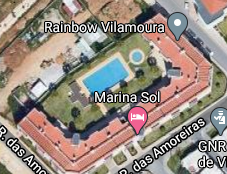pool: (83, 66, 124, 90)
